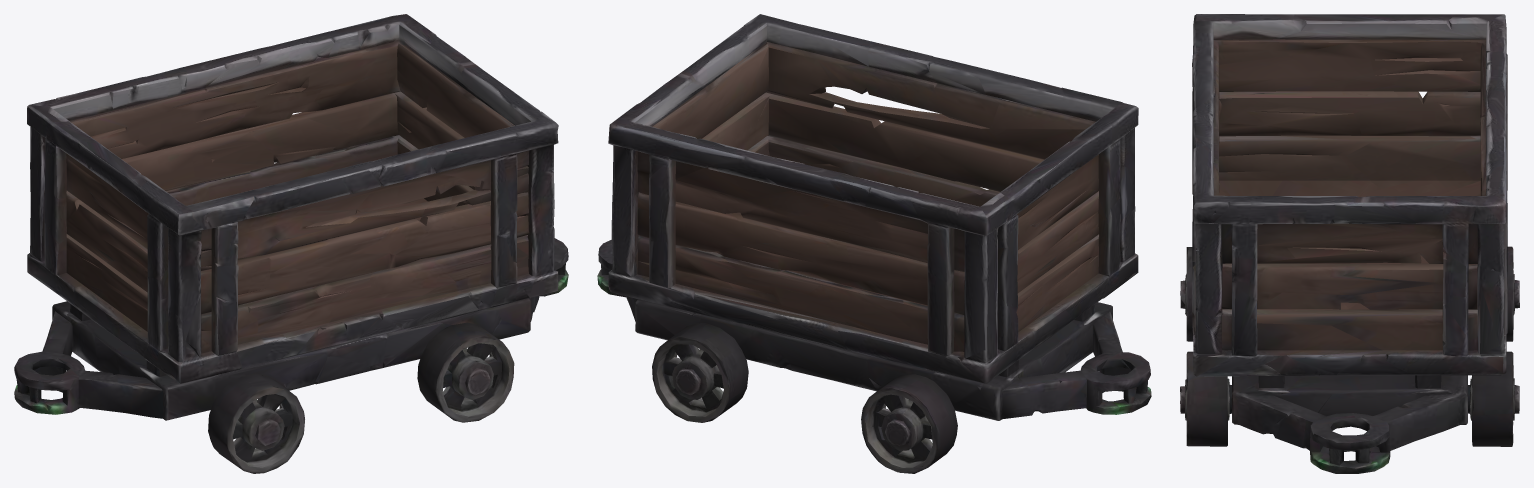
The model's file is mine_cart_empty.glb.
The picture shows the model from 3 angles, left to right: view 1: azimuth 30°, elevation 25°; view 2: azimuth 150°, elevation 25°; view 3: azimuth 270°, elevation 25°; orthographic projection. The views are drawn at different scales.
Visible parts, largest first — view 1: body, wheel_3, wheel_1; view 2: body, wheel_2, wheel_4; view 3: body, wheel_3, wheel_2, wheel_4.
Boxes of the visible parts, <box> form: body: <box>14,14,568,467</box>; wheel_3: <box>439,340,514,422</box>; wheel_1: <box>231,396,299,473</box>; body: <box>597,14,1151,473</box>; wheel_2: <box>861,374,936,473</box>; wheel_4: <box>654,345,723,422</box>; body: <box>1180,14,1519,473</box>; wheel_3: <box>1182,358,1231,446</box>; wheel_2: <box>1506,249,1516,341</box>; wheel_4: <box>1468,378,1516,446</box>.
Size of the model in its own units: 2.48 by 1.2 by 1.31.
2 materials, 2 textured.
